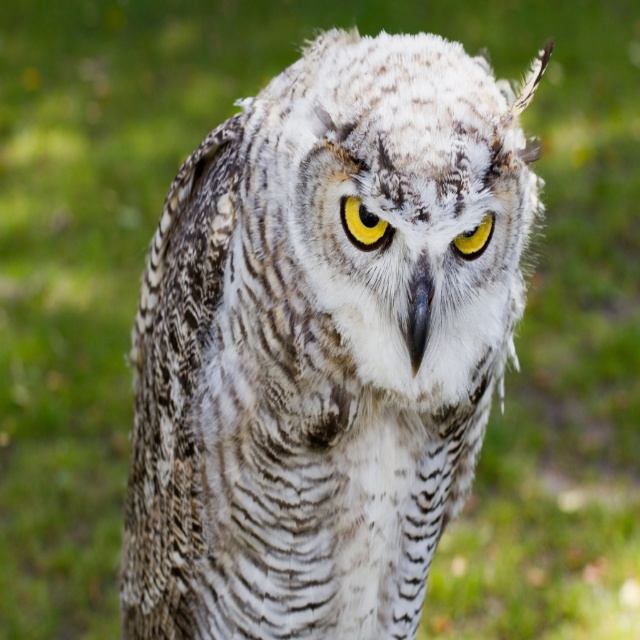Owl: (115, 19, 554, 639)
